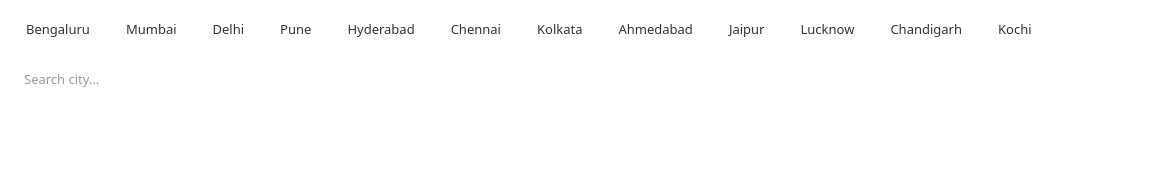
Test case: CitySearchCombobox › narrows to Pune when typing pune (case-insensitive)
This screenshot has width=1176, height=172.
In the dropdown: (588, 79) 12,60 -> 1164,99, type "pune"
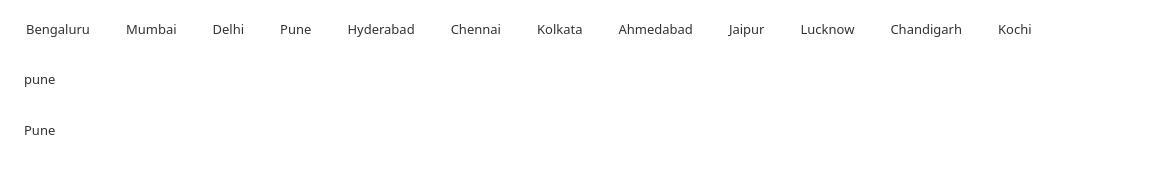
Check: the option "Pune" is shown, box 12,111 -> 1164,150
